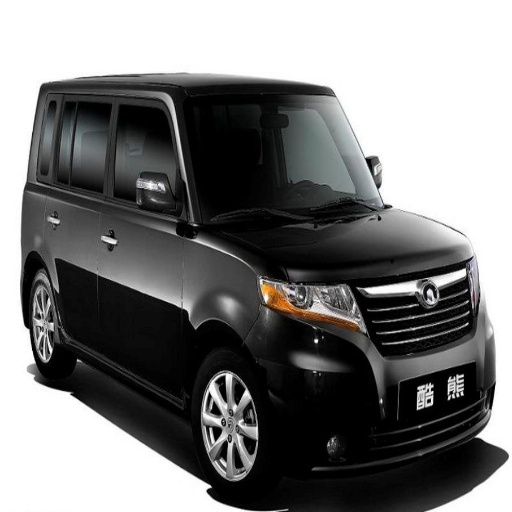front_bumper: (261, 258, 495, 473)
front_right_door: (97, 99, 189, 393)
front_right_light: (260, 280, 363, 331)
